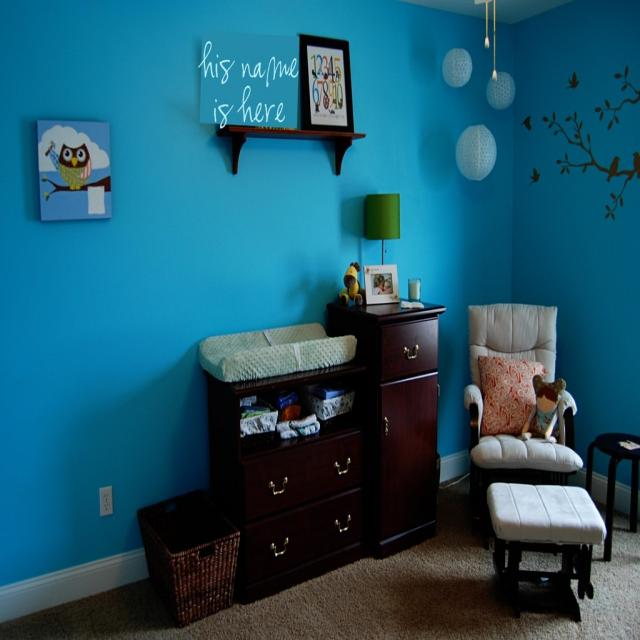Handle: (331, 513, 356, 546), (267, 533, 295, 562), (402, 336, 426, 368), (378, 410, 399, 442), (266, 472, 290, 498), (332, 457, 354, 482)
beside table: (216, 353, 370, 576), (366, 288, 443, 552)
chair: (468, 300, 584, 477)
table: (486, 471, 620, 593)
